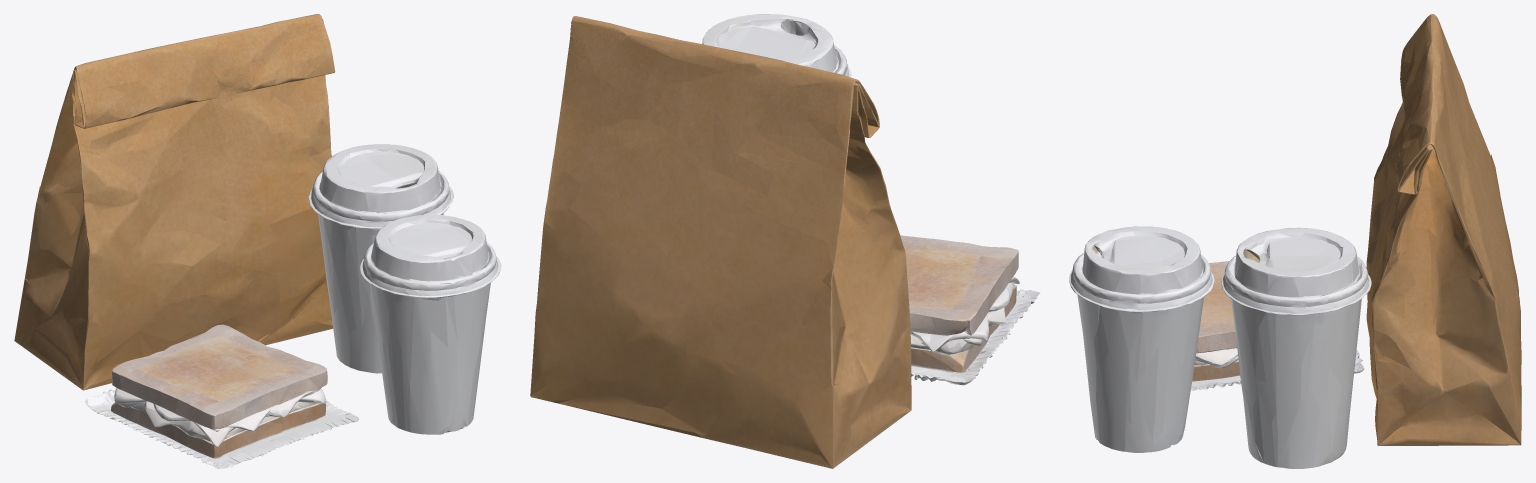
Rendered from w51breakfast.glb.
3 views of the same model, side by side, from view 1: azimuth 30°, elevation 25°; view 2: azimuth 150°, elevation 25°; view 3: azimuth 270°, elevation 25° (orthographic). The views are drawn at different scales.
Visible parts, largest first — view 1: output_unwrapped; view 2: output_unwrapped; view 3: output_unwrapped.
Boxes of the visible parts, x1,y1,x2,y2 form: output_unwrapped: (14,14,501,468); output_unwrapped: (530,14,1040,468); output_unwrapped: (1069,14,1521,468).
Size of the model in its own units: 0.3 by 0.2481 by 0.3256.
Materials: 1 (1 with a texture image).
